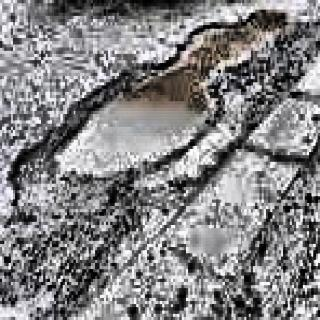pothole: (0, 9, 306, 308)
